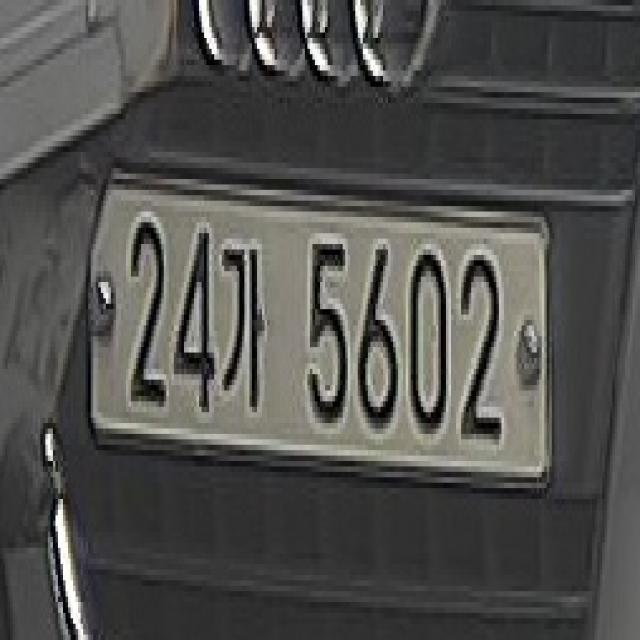0: (406, 232, 452, 452)
2: (458, 237, 506, 450), (122, 202, 170, 414)
4: (173, 203, 218, 424)
5: (300, 225, 352, 436)
6: (356, 225, 402, 440)
ga: (223, 229, 273, 431)
license_plate: (87, 172, 547, 479)
